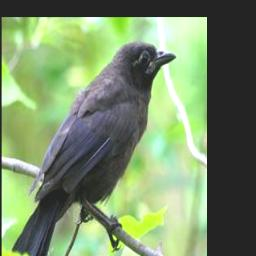Crow: (5, 39, 177, 256)
